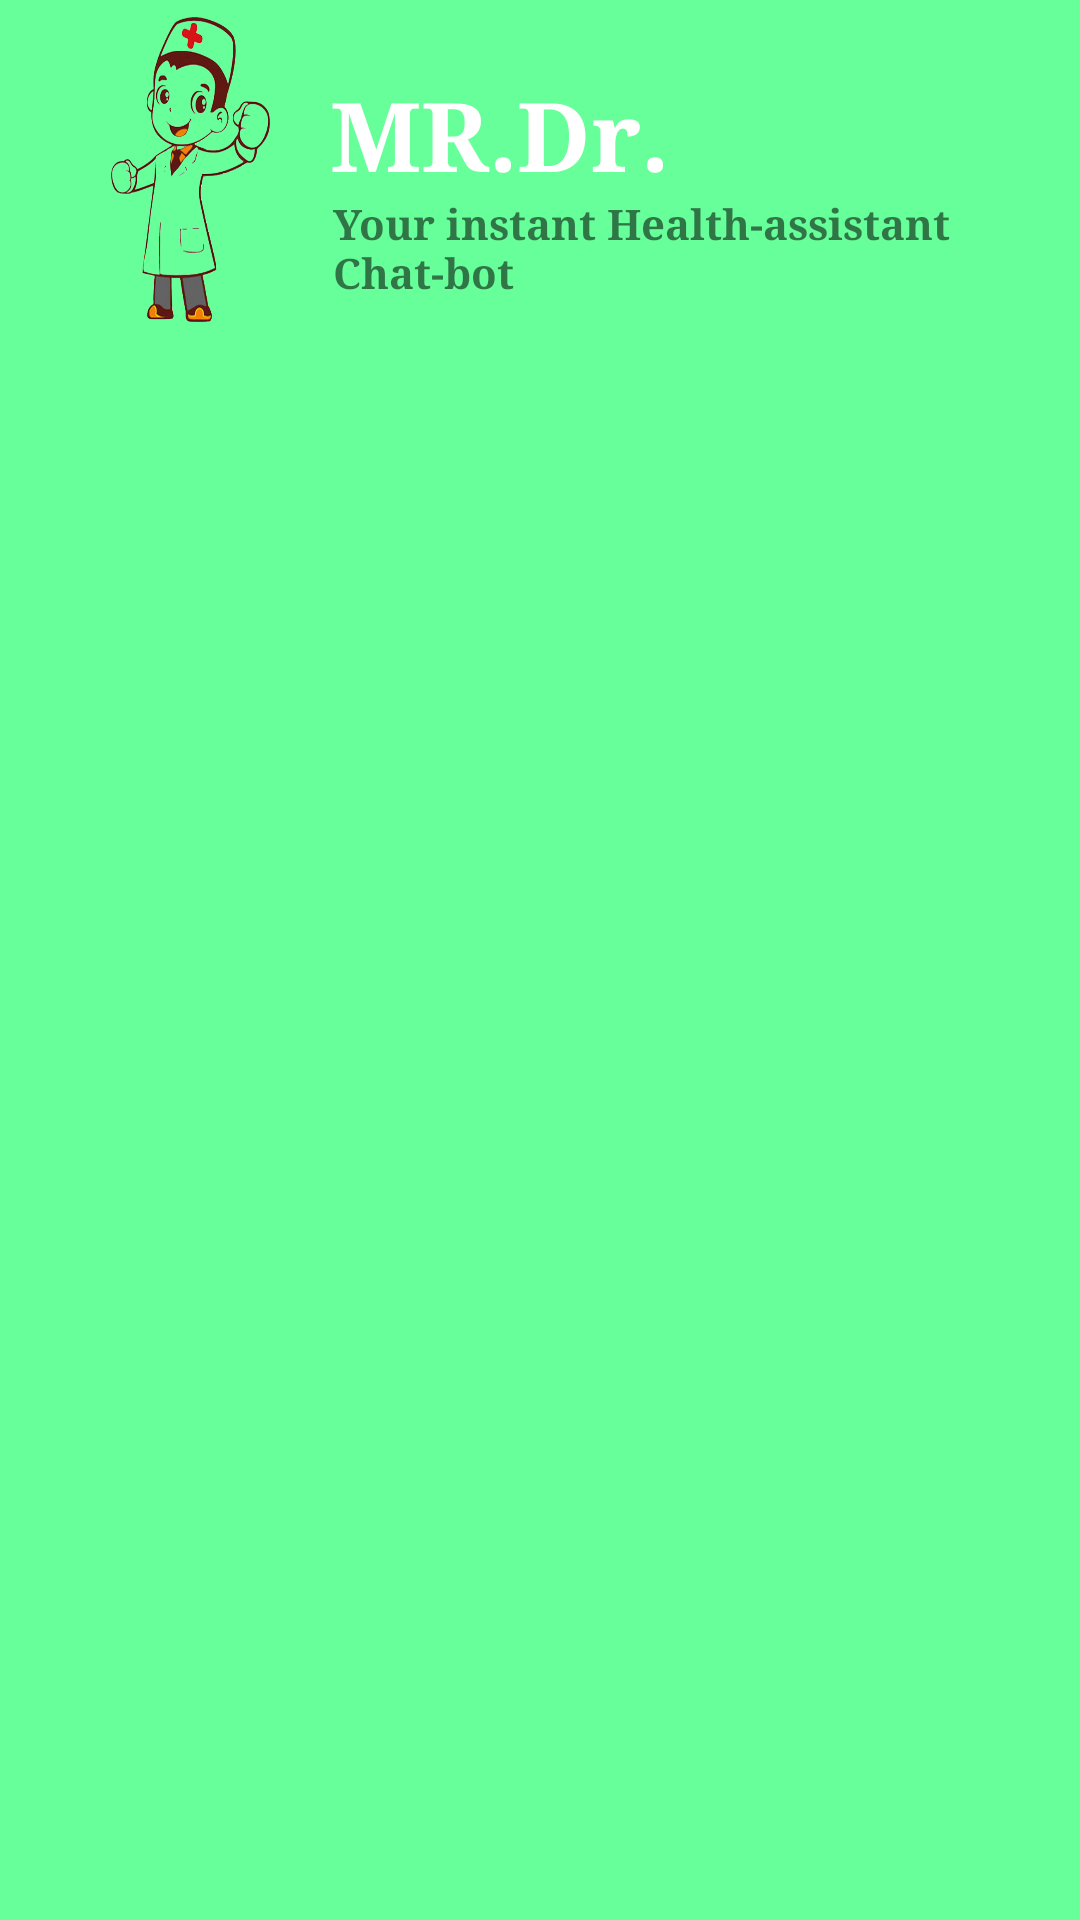

Icon click points for this 1080px x 1920px phone screenshot, format point (x, y):
chatdr: point (236, 169)
